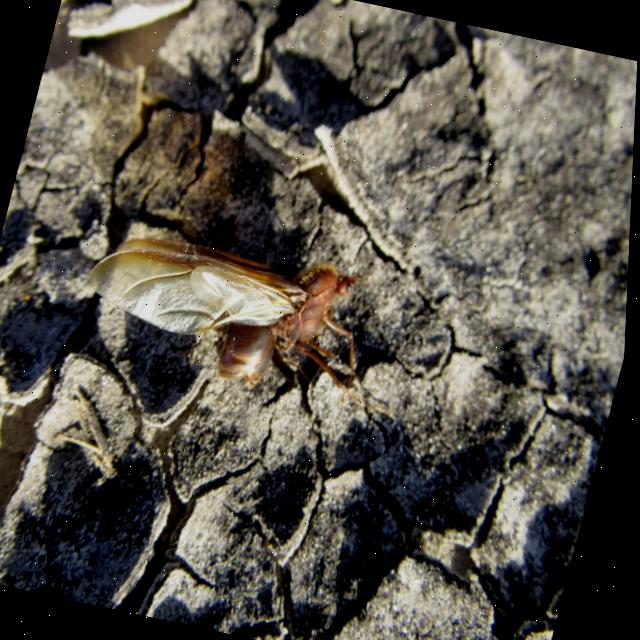Dead-Male-Alate: (70, 212, 433, 422)
